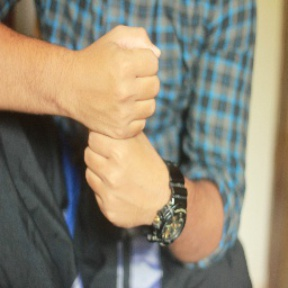G: (76, 21, 175, 234)
